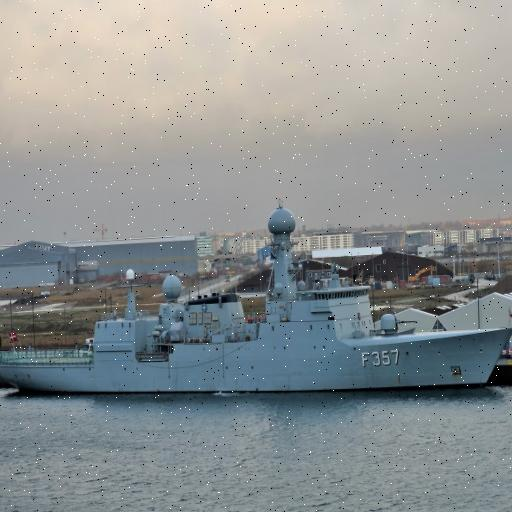Fragata: (1, 196, 512, 403)
